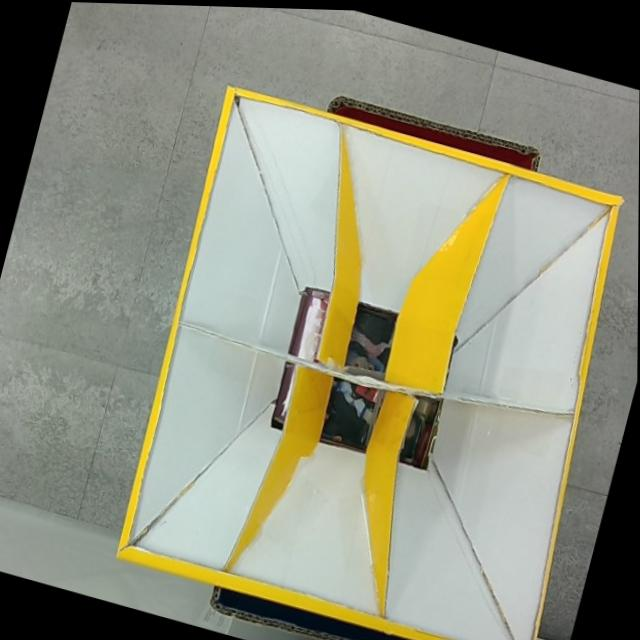box: (101, 58, 640, 640)
